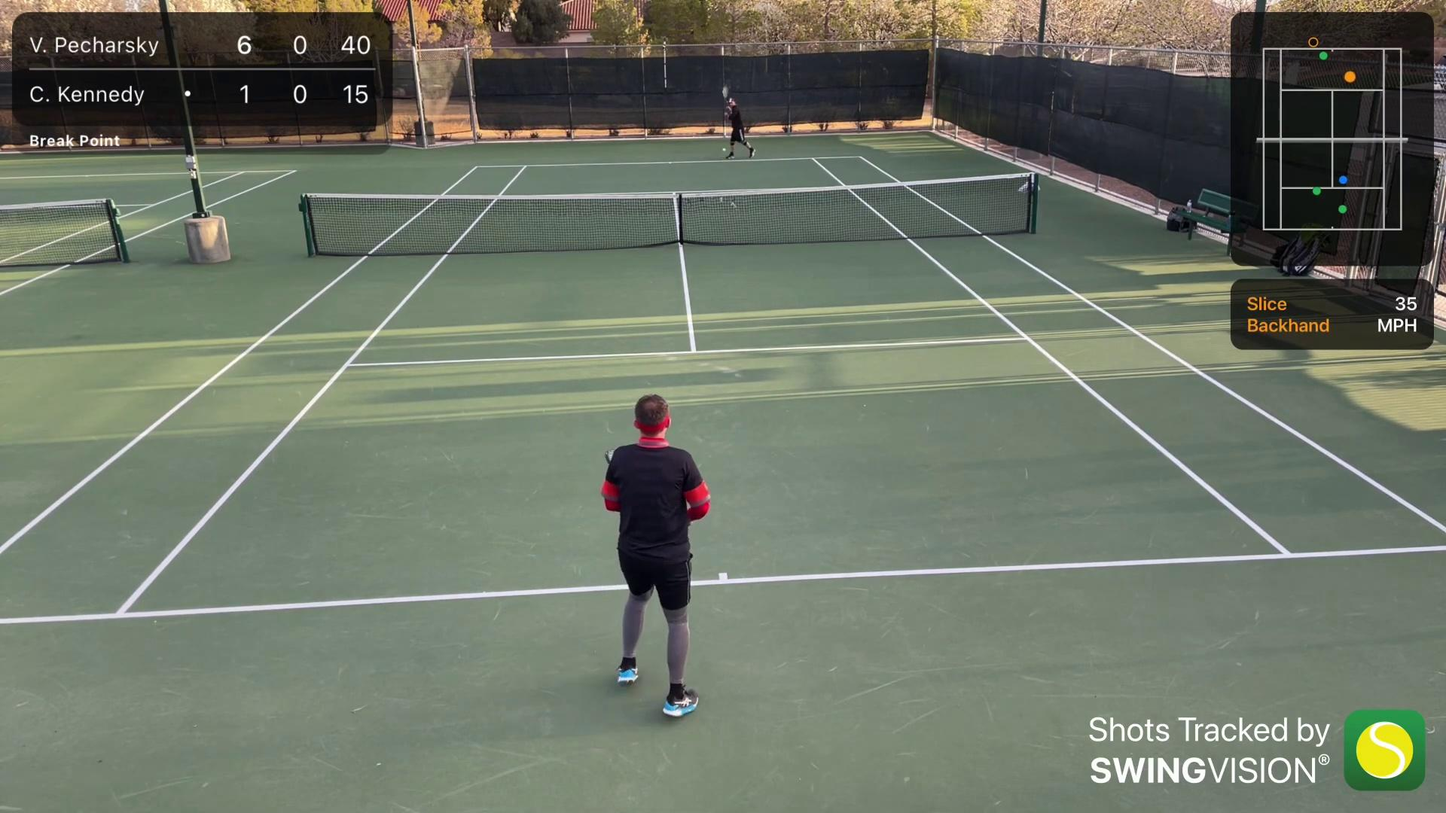ball: (721, 147, 726, 152)
